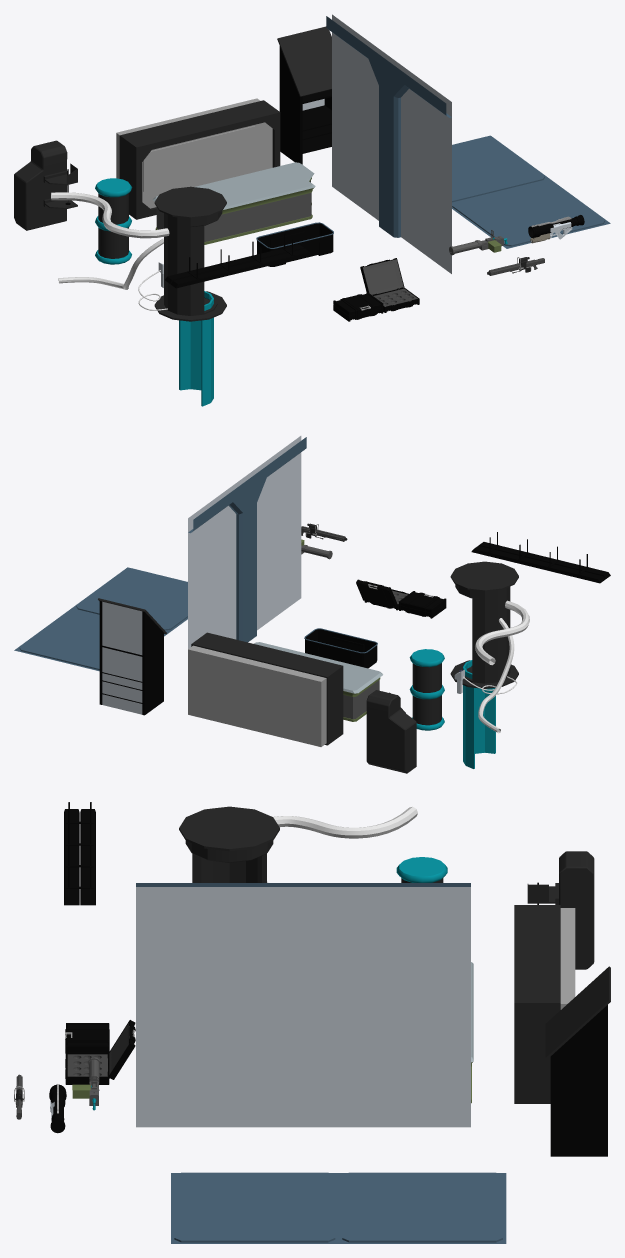
Rendered from armory_room.fbx.
The picture shows the model from 3 angles, top to bottom: view 1: azimuth 30°, elevation 25°; view 2: azimuth 150°, elevation 25°; view 3: azimuth 270°, elevation 25°; orthographic projection. The views are drawn at different scales.
Parts seen in each view (by area): view 1: wall, armoire, repear_zone, ground_armory, armoire1, table_armury, healing_armory, angle, lamp, stockage, top_chest, coffre (+3 smaller); view 2: wall, armoire, repear_zone, ground_armory, armoire1, healing_armory, angle, stockage, table_armury, lamp, coffre, top_chest; view 3: wall, ground_armory, armoire1, armoire, repear_zone, healing_armory, lamp, coffre, bot_chest, angle, top_chest, machine_gun1 (+1 smaller).
Boxes of the visible parts, left/top/right/bottom form: wall: left=326, top=14, right=451, bottom=273; armoire: left=116, top=98, right=280, bottom=219; repear_zone: left=51, top=186, right=226, bottom=406; ground_armory: left=452, top=135, right=610, bottom=248; armoire1: left=277, top=26, right=331, bottom=164; table_armury: left=153, top=162, right=315, bottom=244; healing_armory: left=14, top=140, right=77, bottom=230; angle: left=95, top=178, right=132, bottom=264; lamp: left=165, top=234, right=312, bottom=288; stockage: left=256, top=222, right=333, bottom=266; top_chest: left=360, top=258, right=404, bottom=295; coffre: left=333, top=292, right=383, bottom=321; wall: left=188, top=436, right=306, bottom=648; armoire: left=188, top=632, right=343, bottom=746; repear_zone: left=450, top=561, right=529, bottom=768; ground_armory: left=14, top=567, right=187, bottom=671; armoire1: left=98, top=598, right=166, bottom=715; healing_armory: left=366, top=690, right=416, bottom=773; angle: left=409, top=649, right=444, bottom=730; stockage: left=304, top=628, right=377, bottom=668; table_armury: left=254, top=642, right=382, bottom=721; lamp: left=471, top=532, right=610, bottom=583; coffre: left=399, top=591, right=446, bottom=618; top_chest: left=356, top=579, right=397, bottom=608; wall: left=136, top=883, right=470, bottom=1127; ground_armory: left=171, top=1172, right=506, bottom=1243; armoire1: left=545, top=966, right=610, bottom=1156; armoire: left=514, top=905, right=575, bottom=1103; repear_zone: left=179, top=806, right=417, bottom=882; healing_armory: left=527, top=851, right=594, bottom=969; lamp: left=64, top=802, right=95, bottom=905; coffre: left=65, top=1023, right=109, bottom=1053; bot_chest: left=65, top=1053, right=109, bottom=1084; angle: left=396, top=857, right=447, bottom=882; top_chest: left=108, top=1020, right=135, bottom=1079; machine_gun1: left=72, top=1057, right=100, bottom=1110.
Size of the model in its own units: 1822 by 972 by 1423.
